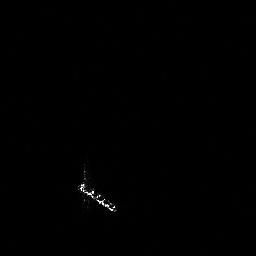ship: (78, 162, 119, 218)
